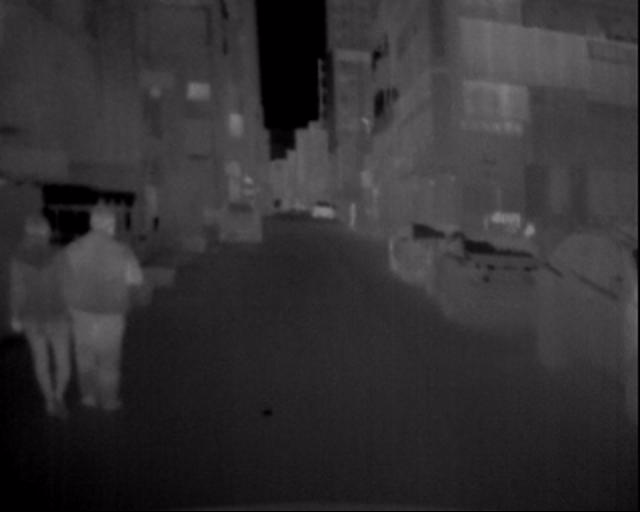person: (58, 214, 129, 461), (4, 217, 70, 464), (517, 211, 545, 265)
